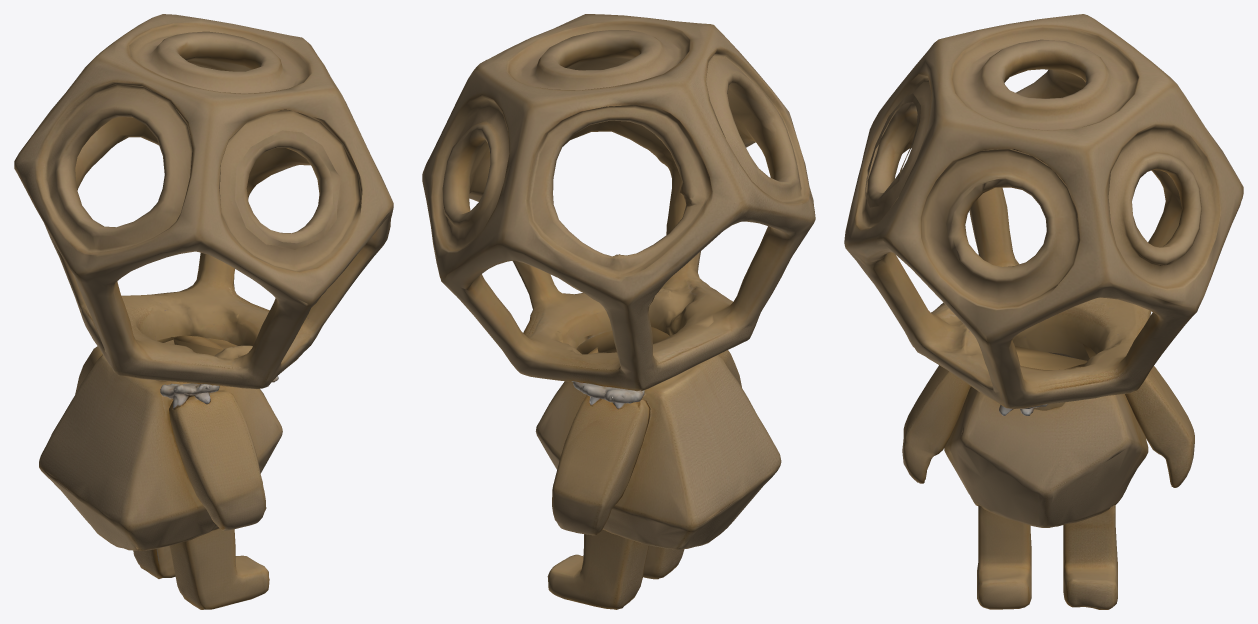
The model's file is pal_dodeca.glb.
The picture shows the model from 3 angles, left to right: view 1: azimuth 30°, elevation 25°; view 2: azimuth 150°, elevation 25°; view 3: azimuth 270°, elevation 25°; orthographic projection.
Visible parts, largest first — view 1: tripo_node_79943443-d675-4f19-beb3-e51ed21dd45b; view 2: tripo_node_79943443-d675-4f19-beb3-e51ed21dd45b; view 3: tripo_node_79943443-d675-4f19-beb3-e51ed21dd45b.
Part boxes in pixels (x1,y1,x2,y2): tripo_node_79943443-d675-4f19-beb3-e51ed21dd45b: [14, 14, 393, 609]; tripo_node_79943443-d675-4f19-beb3-e51ed21dd45b: [422, 14, 815, 609]; tripo_node_79943443-d675-4f19-beb3-e51ed21dd45b: [844, 14, 1243, 609].
Size of the model in its own units: 0.6426 by 0.998 by 0.6699.
1 material, 1 textured.
